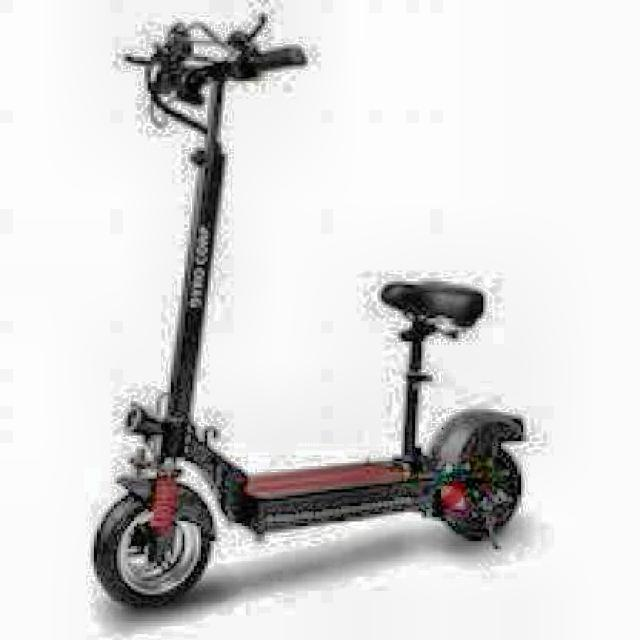bike: (92, 4, 551, 612)
